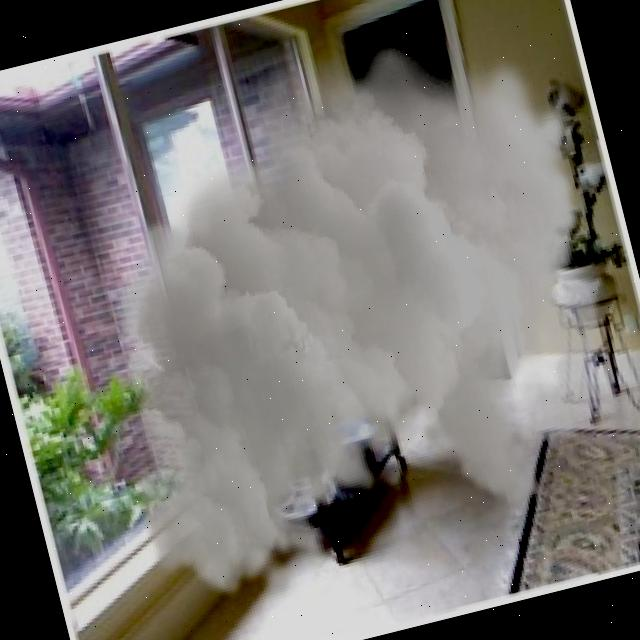smoke: (34, 0, 640, 633)
